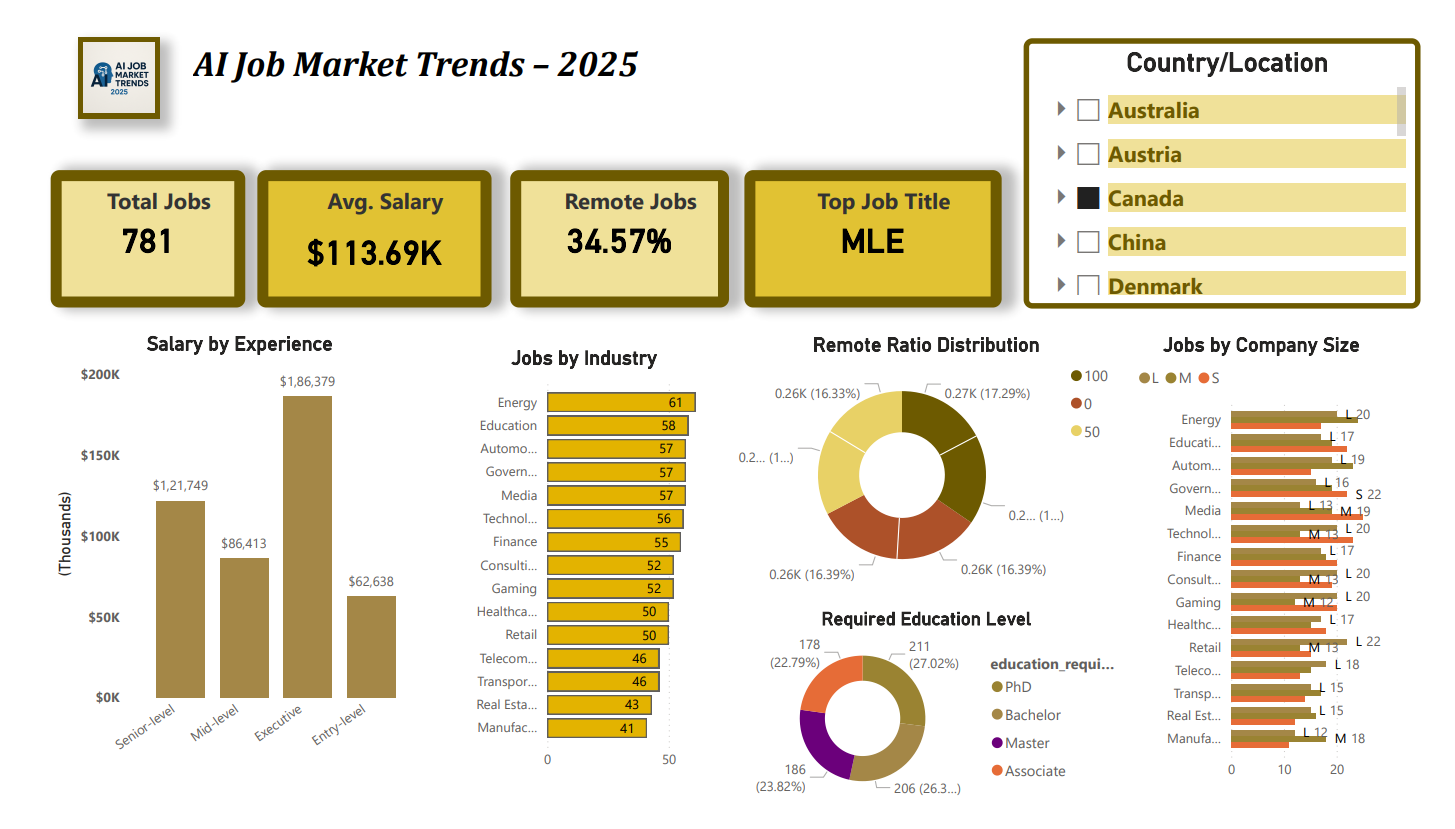

This screenshot's page, from the dashboard's own definition file:
{"tool":"powerbi","page":{"name":"Page 1","canvas":[1280,720],"ordinal":0},"visuals":[{"type":"card","title":"Total Jobs","fields":{"Values":["cleaned_data.Total Job"]},"box":[23.3,138.7,176.2,125.7],"z":0},{"type":"textbox","box":[147.7,17.8,506.1,73.9],"z":1000},{"type":"image","box":[48,17.8,74.1,74.1],"z":2000},{"type":"card","title":"Avg. Salary","fields":{"Values":["Avg(cleaned_data.salary_usd)"]},"box":[211.2,138.7,212.5,125.7],"z":3000},{"type":"card","title":"Remote Jobs\t","fields":{"Values":["cleaned_data.Percent Remote Jobs"]},"box":[440.6,138.7,199.6,125.7],"z":4000},{"type":"card","title":"Top Job Title","fields":{"Values":["cleaned_data.Top Job Abbreviation"]},"box":[654.4,138.7,233.2,125.7],"z":5000},{"type":"slicer","title":" Country/Location","fields":{"Values":["cleaned_data.company_location","cleaned_data.Experience Level Full","cleaned_data.Employment Type Full"]},"box":[907.8,18.9,361.1,246.2],"z":6000},{"type":"clusteredColumnChart","title":"Salary by Experience","fields":{"Category":["cleaned_data.Experience Level Full"],"Y":["Avg(cleaned_data.salary_usd)"]},"box":[22.8,286.1,343.8,404.3],"z":7000},{"type":"donutChart","title":"Remote Ratio Distribution\t","fields":{"Category":["cleaned_data.remote_ratio"],"Y":["CountNonNull(cleaned_data.job_title)","CountNonNull(cleaned_data.job_id)"]},"box":[640.1,286.6,358.6,238.6],"z":9000},{"type":"clusteredBarChart","title":"Jobs by Industry\t","fields":{"Category":["cleaned_data.industry"],"Y":["CountNonNull(cleaned_data.company_location)"]},"box":[372.5,299.2,272.7,407.8],"z":10000},{"type":"clusteredBarChart","title":"Jobs by Company Size\t","fields":{"Category":["cleaned_data.industry"],"Y":["CountNonNull(cleaned_data.company_size)"],"Series":["cleaned_data.company_size"]},"box":[998.7,286.6,251.3,429.3],"z":11000},{"type":"donutChart","title":"Required Education Level\t","fields":{"Category":["cleaned_data.education_required"],"Y":["cleaned_data.Total Jobs"]},"box":[640.1,536.6,358.6,183.1],"z":12000}]}

Visuals, with their boxes in screenshot pixels (x1, y1, x2, y2), scaled from the page's 1280x720 canvas onto the 1455x829 screenshot:
"Total Jobs" card: box(26, 160, 227, 304)
textbox: box(168, 20, 743, 106)
image: box(55, 20, 139, 106)
"Avg. Salary" card: box(240, 160, 482, 304)
"Remote Jobs	" card: box(501, 160, 728, 304)
"Top Job Title" card: box(744, 160, 1009, 304)
" Country/Location" slicer: box(1032, 22, 1442, 305)
"Salary by Experience" clusteredColumnChart: box(26, 329, 417, 795)
"Remote Ratio Distribution	" donutChart: box(728, 330, 1135, 605)
"Jobs by Industry	" clusteredBarChart: box(423, 344, 733, 814)
"Jobs by Company Size	" clusteredBarChart: box(1135, 330, 1421, 824)
"Required Education Level	" donutChart: box(728, 618, 1135, 828)
